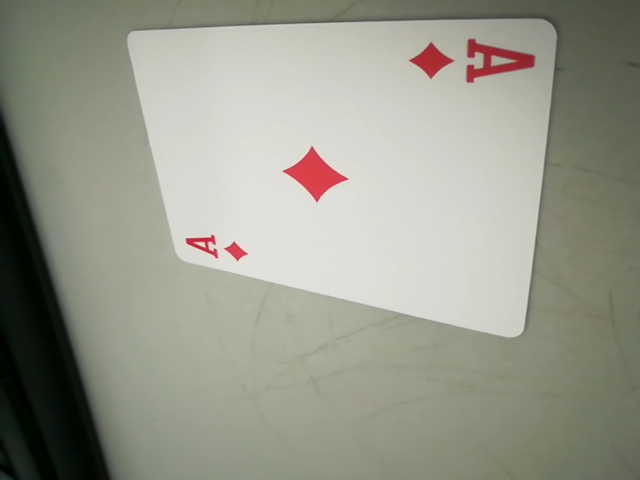fk a: (409, 31, 538, 88), (180, 224, 257, 266)
